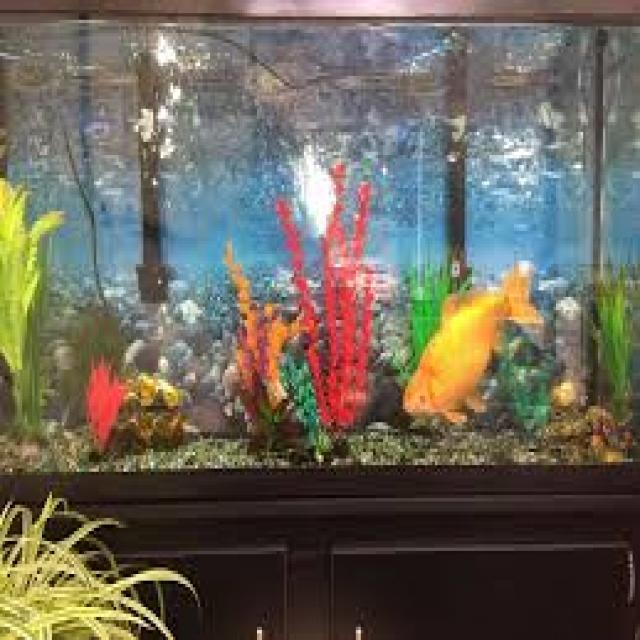goldfish: (387, 259, 550, 444)
